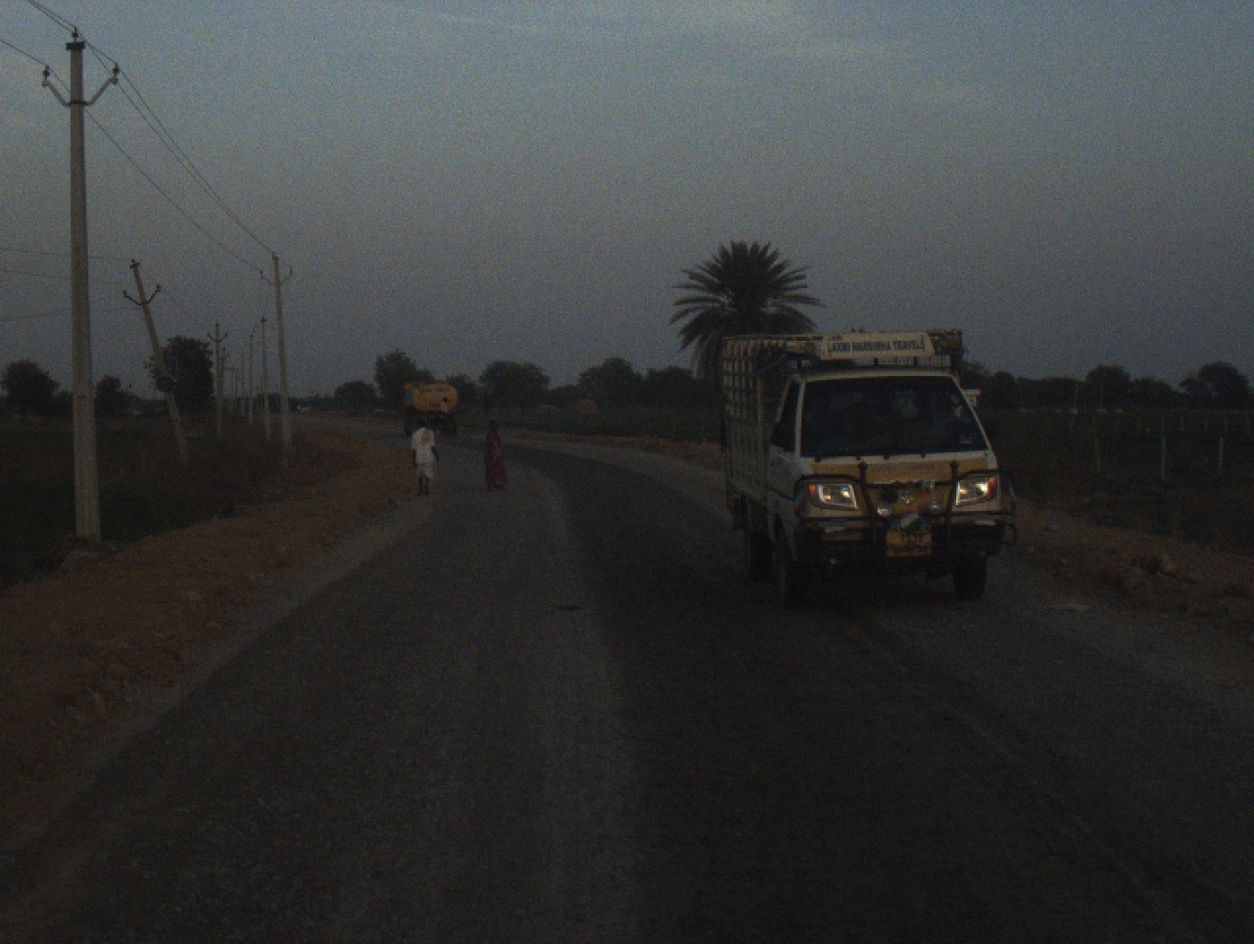person: (403, 416, 446, 500), (470, 411, 509, 494)
truck: (710, 322, 1020, 606), (395, 379, 461, 436)
